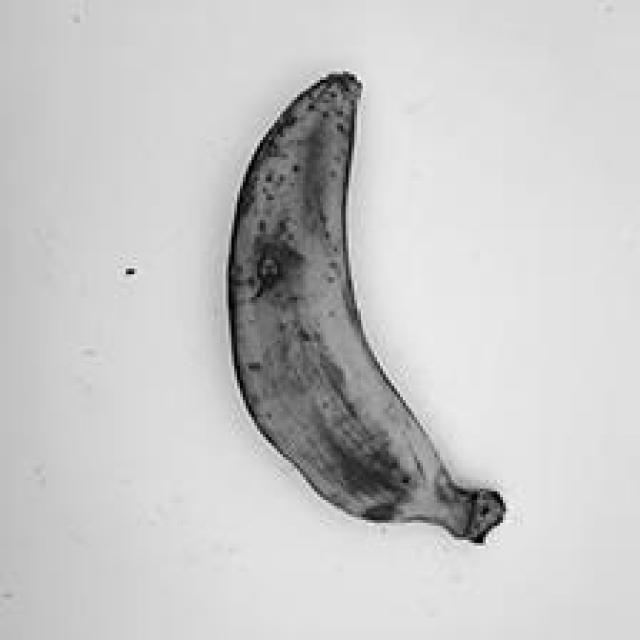Overripe: (180, 65, 542, 576)
